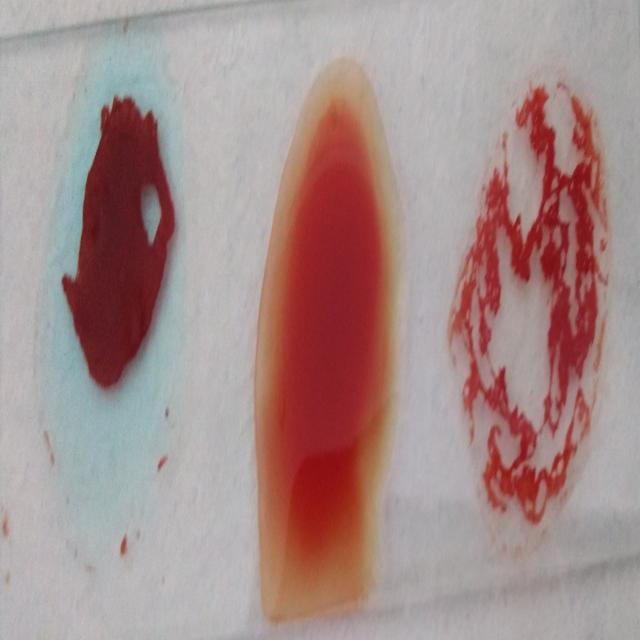A: (46, 48, 178, 536)
D: (466, 78, 611, 528)
